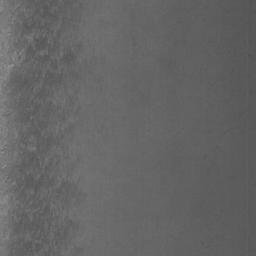Silk spot: (1, 95, 80, 256), (5, 12, 62, 95), (56, 179, 81, 200), (35, 0, 58, 20), (45, 69, 64, 86), (60, 48, 76, 65), (45, 158, 60, 173), (35, 86, 49, 102), (46, 102, 61, 114), (47, 176, 54, 188)
